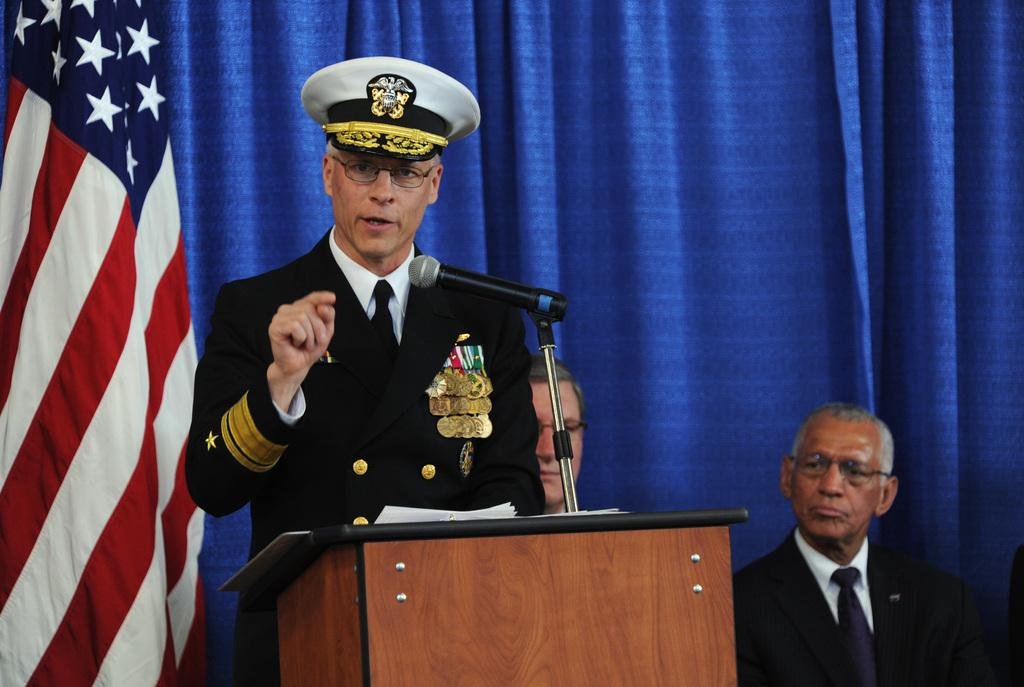Hat: (294, 59, 472, 165)
